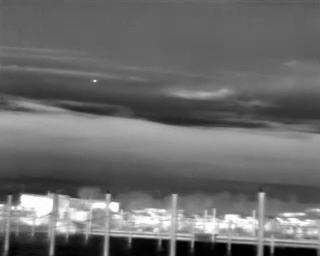BIRD: (90, 76, 99, 86)
